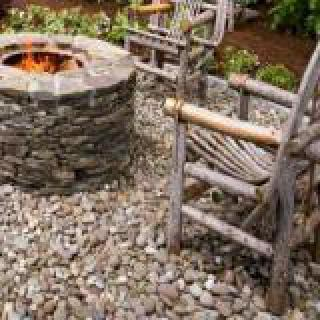fire: (16, 22, 60, 82)
